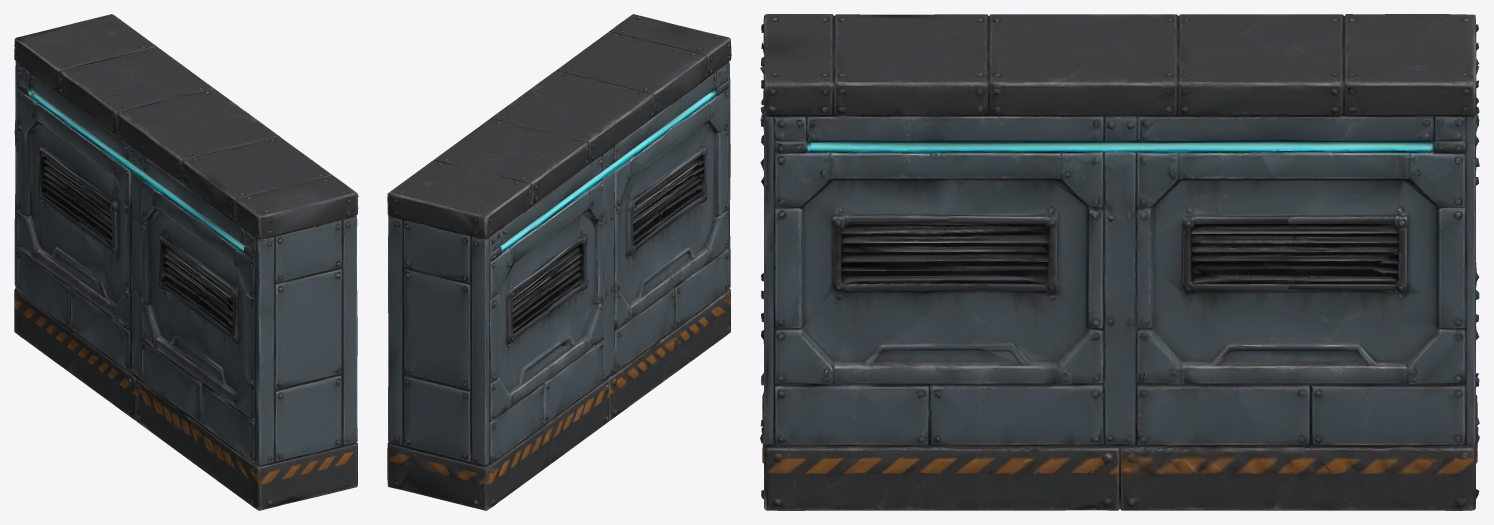
File: wall.glb
The picture shows the model from 3 angles, left to right: view 1: azimuth 30°, elevation 25°; view 2: azimuth 150°, elevation 25°; view 3: azimuth 270°, elevation 25°; orthographic projection. The views are drawn at different scales.
Parts seen in each view (by area): view 1: tripo_node_f93378da-c1ee-4ede-8d8a-67768c266dc6; view 2: tripo_node_f93378da-c1ee-4ede-8d8a-67768c266dc6; view 3: tripo_node_f93378da-c1ee-4ede-8d8a-67768c266dc6.
Part boxes in pixels (x1,y1,x2,y2): tripo_node_f93378da-c1ee-4ede-8d8a-67768c266dc6: [14, 14, 358, 510]; tripo_node_f93378da-c1ee-4ede-8d8a-67768c266dc6: [387, 14, 731, 510]; tripo_node_f93378da-c1ee-4ede-8d8a-67768c266dc6: [760, 14, 1479, 510].
Size of the model in its own units: 0.246 by 0.6473 by 0.981.
1 material, 1 textured.
